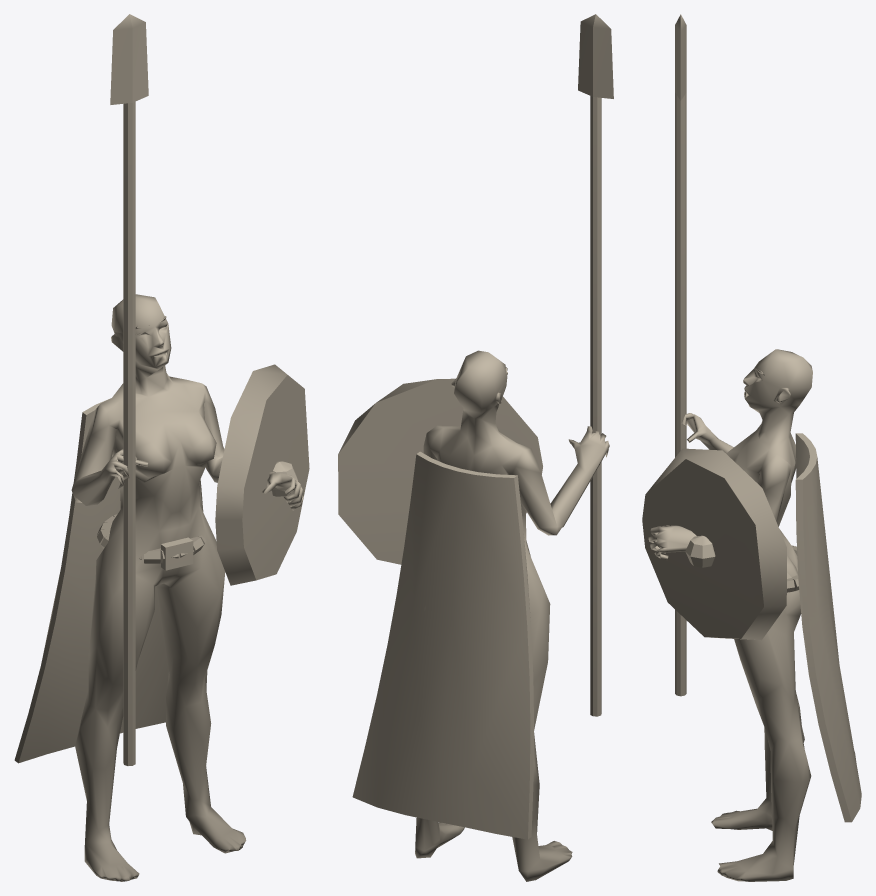
The model's file is hero_w5.glb.
3 renders of one model, left to right at view 1: azimuth 30°, elevation 25°; view 2: azimuth 150°, elevation 25°; view 3: azimuth 270°, elevation 25°, orthographic. The views are drawn at different scales.
Visible parts, largest first — view 1: HERO_W52; view 2: HERO_W52; view 3: HERO_W52.
Part boxes in pixels (box(x1,y1,x2,y2)): HERO_W52: box(14, 14, 309, 881); HERO_W52: box(338, 14, 613, 881); HERO_W52: box(642, 14, 861, 881).
Size of the model in its own units: 1.54 by 5.32 by 1.31.
